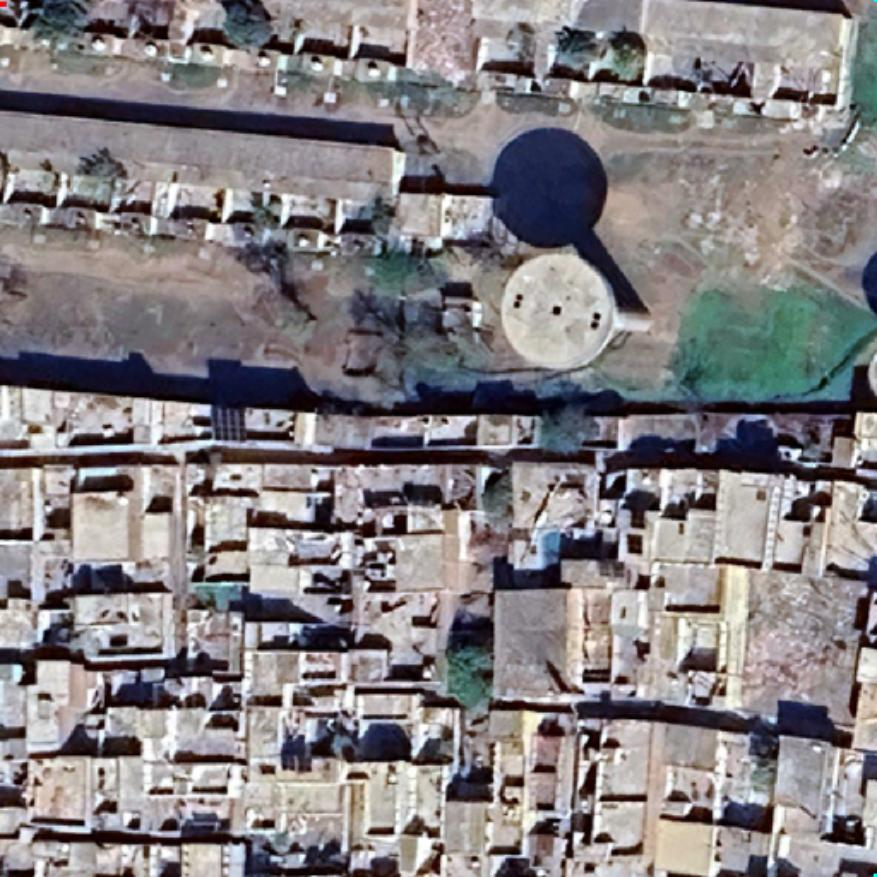Solarpanel: (207, 400, 252, 446)
